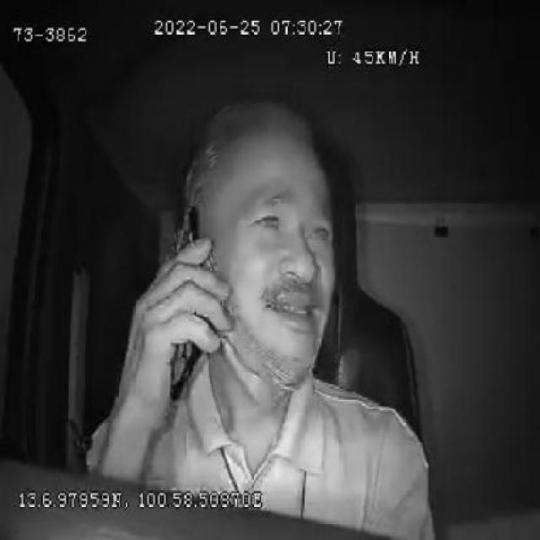phone: (158, 199, 213, 396)
